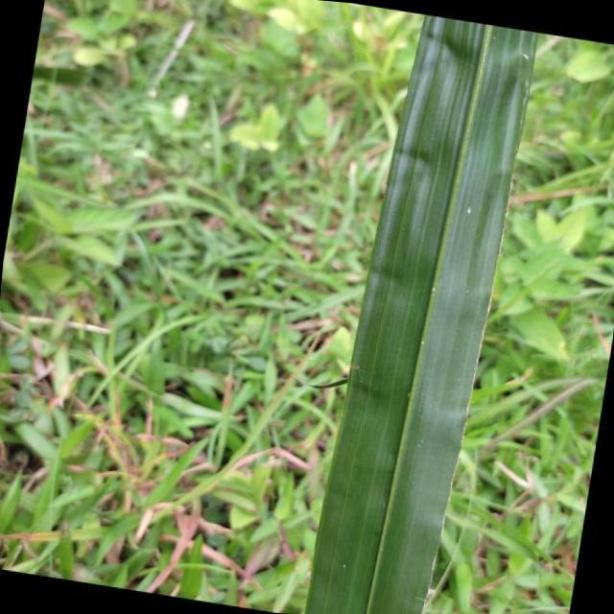Boron: (309, 0, 542, 614)
